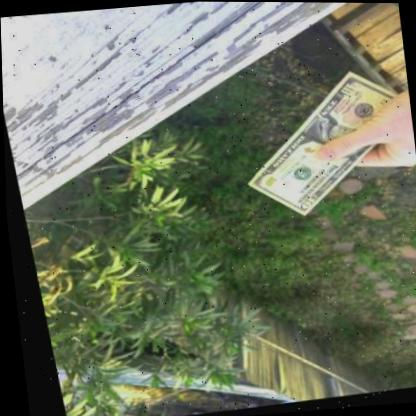dollar_front: (241, 74, 410, 217)
